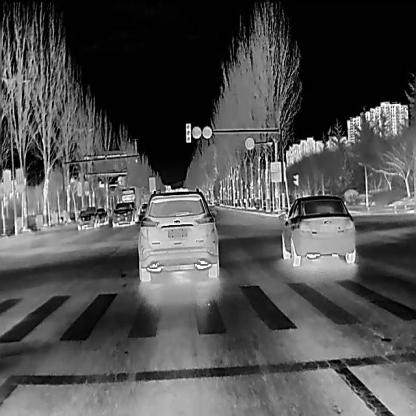car: (137, 186, 219, 281), (276, 192, 356, 266), (111, 201, 135, 226), (110, 200, 134, 224), (77, 206, 98, 230), (95, 206, 108, 225)
truck: (120, 185, 141, 210)
